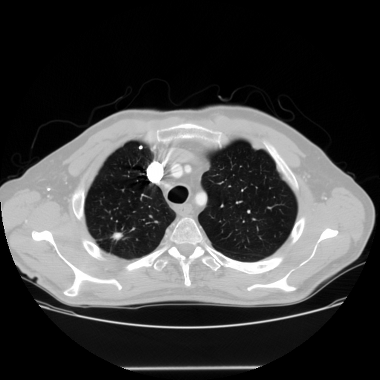nodule: (111, 229, 123, 241)
